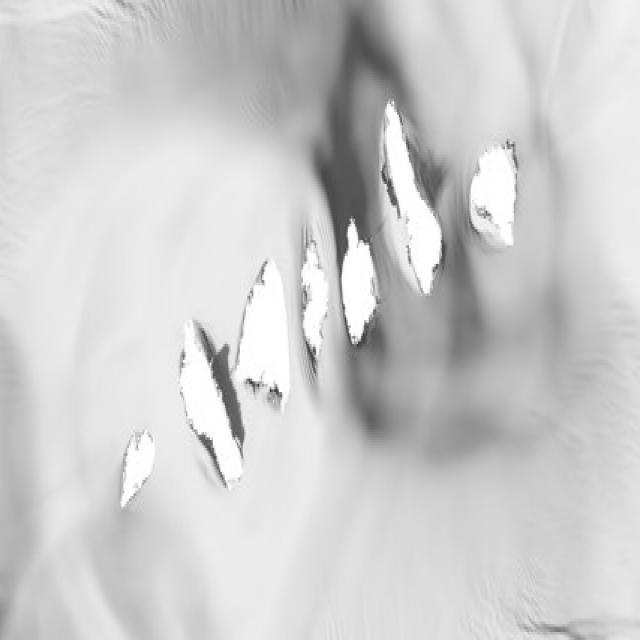Hole: (381, 98, 443, 295), (180, 320, 244, 488), (235, 260, 290, 398), (470, 140, 518, 248), (342, 218, 377, 345), (301, 234, 329, 368), (120, 432, 155, 510)
